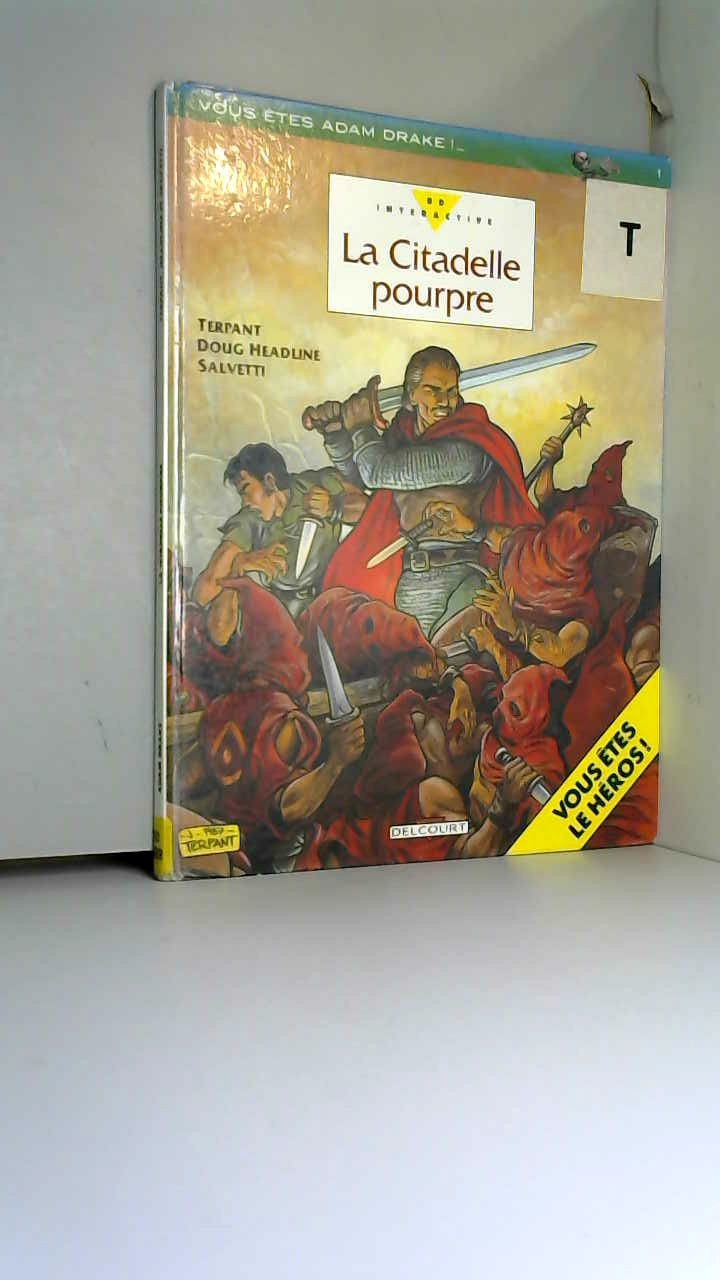book: (120, 50, 716, 900)
